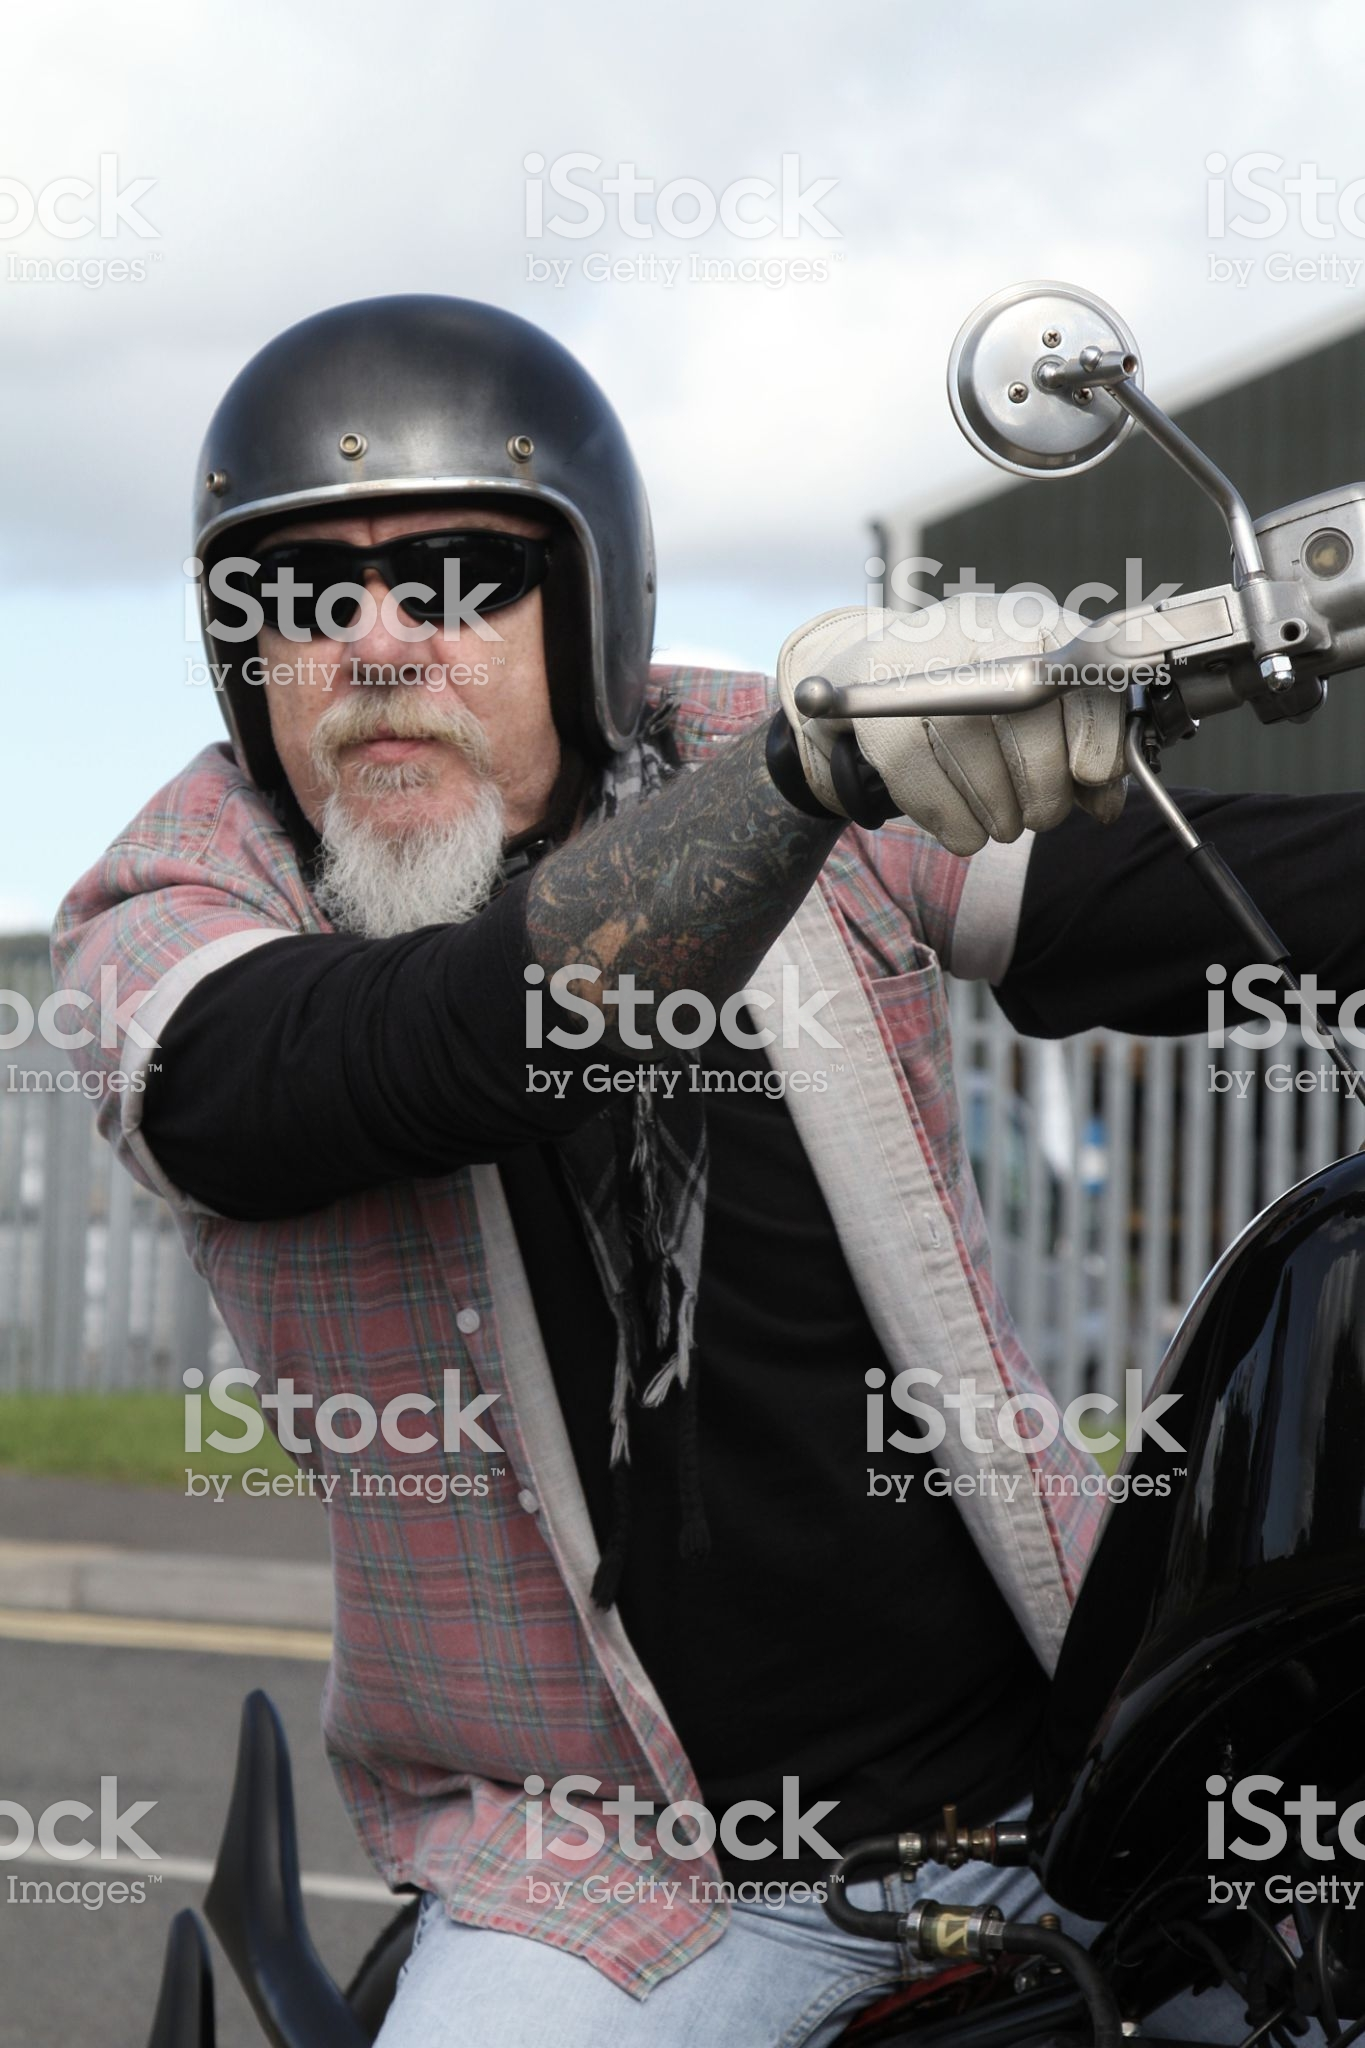helmet: (133, 294, 718, 789)
